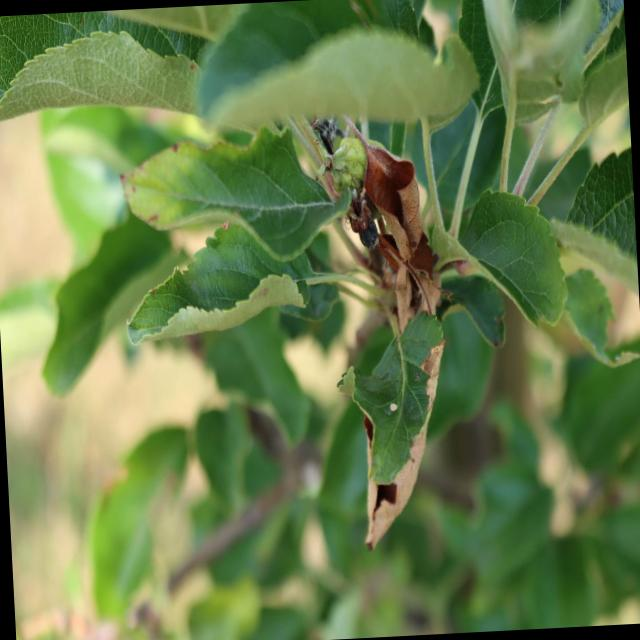-FireBlight-: (340, 73, 457, 308)
